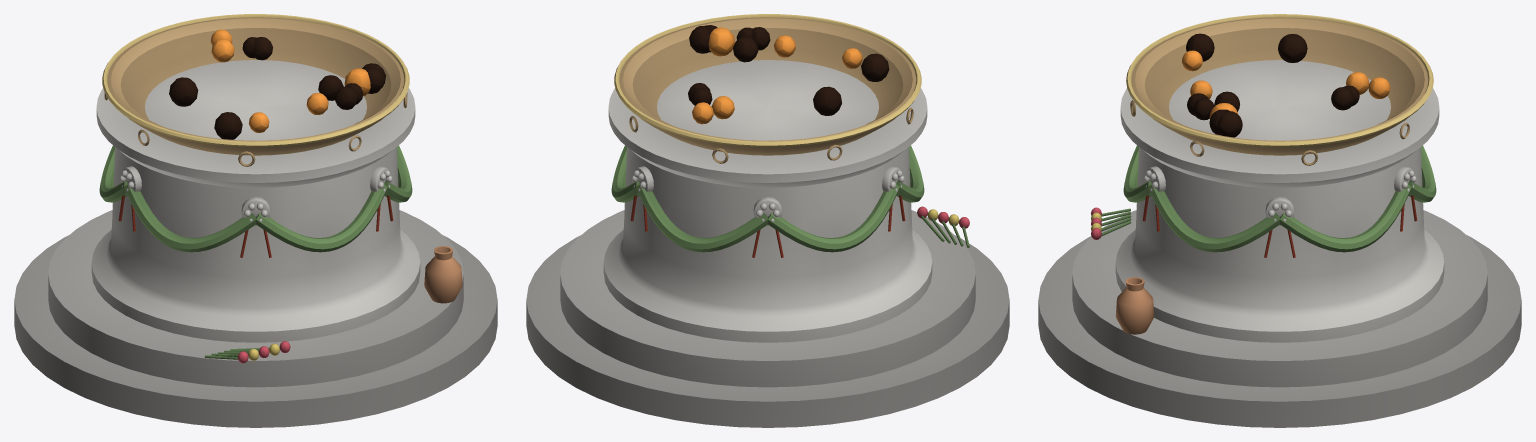
Rendered from obj_kit_altar.glb.
3 views of the same model, side by side, from view 1: azimuth 30°, elevation 25°; view 2: azimuth 150°, elevation 25°; view 3: azimuth 270°, elevation 25° (orthographic).
Visible parts, largest first — view 1: body, steps, bowl, Torus, garland.003, garland.004, jar, garland.002, garland.005, Icosphere.010, Icosphere.007; view 2: body, steps, bowl, Torus, garland.002, garland.001, garland, garland.003, Icosphere.010, Icosphere.007, Icosphere.012, Icosphere.008 (+1 smaller); view 3: body, steps, bowl, Torus, garland, garland.005, jar, garland.001, garland.004, Icosphere.010, Icosphere.005, Icosphere.007.
Part boxes in pixels (x1=…): body: x1=91, y1=60, x2=420, y2=342; steps: x1=14, y1=210, x2=497, y2=427; bowl: x1=107, y1=17, x2=404, y2=155; Torus: x1=102, y1=14, x2=409, y2=147; garland.003: x1=124, y1=184, x2=255, y2=252; garland.004: x1=256, y1=184, x2=387, y2=252; jar: x1=424, y1=246, x2=462, y2=303; garland.002: x1=99, y1=145, x2=127, y2=202; garland.005: x1=384, y1=145, x2=412, y2=202; Icosphere.010: x1=169, y1=77, x2=198, y2=106; Icosphere.007: x1=214, y1=112, x2=242, y2=139; body: x1=603, y1=60, x2=932, y2=342; steps: x1=526, y1=210, x2=1009, y2=427; bowl: x1=619, y1=17, x2=916, y2=155; Torus: x1=614, y1=14, x2=921, y2=147; garland.002: x1=768, y1=184, x2=899, y2=252; garland.001: x1=636, y1=184, x2=767, y2=252; garland: x1=611, y1=145, x2=639, y2=202; garland.003: x1=896, y1=145, x2=924, y2=202; Icosphere.010: x1=813, y1=86, x2=841, y2=115; Icosphere.007: x1=861, y1=53, x2=889, y2=81; Icosphere.012: x1=708, y1=27, x2=734, y2=56; Icosphere.008: x1=733, y1=36, x2=758, y2=62; body: x1=1115, y1=60, x2=1444, y2=342; steps: x1=1038, y1=210, x2=1521, y2=427; bowl: x1=1131, y1=17, x2=1428, y2=155; Torus: x1=1126, y1=14, x2=1433, y2=147; garland: x1=1280, y1=184, x2=1411, y2=252; garland.005: x1=1148, y1=184, x2=1279, y2=252; jar: x1=1115, y1=277, x2=1154, y2=334; garland.001: x1=1408, y1=145, x2=1436, y2=202; garland.004: x1=1123, y1=145, x2=1151, y2=202; Icosphere.010: x1=1278, y1=34, x2=1307, y2=62; Icosphere.005: x1=1216, y1=111, x2=1242, y2=137; Icosphere.007: x1=1186, y1=33, x2=1214, y2=61.
Bounding box in the file's own units: 2 × 1.18 × 2.
